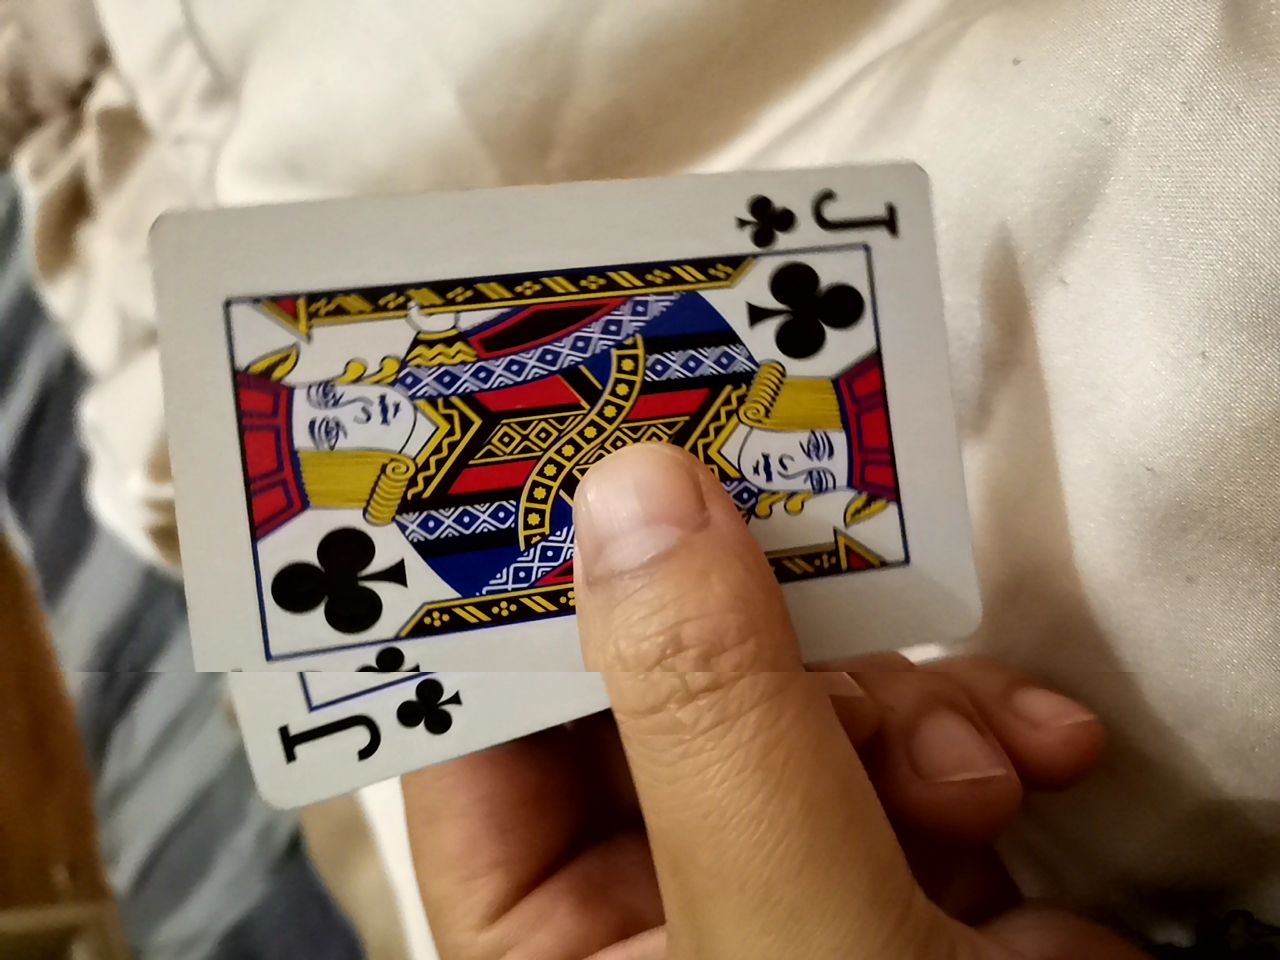mh j: (131, 135, 1012, 775)
